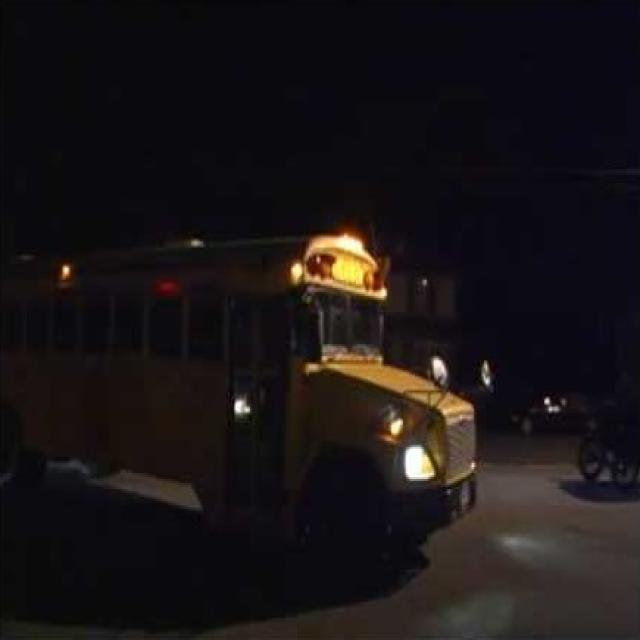Bicycle: (574, 395, 640, 493)
Bus: (1, 176, 483, 571)
car: (508, 384, 609, 444)
